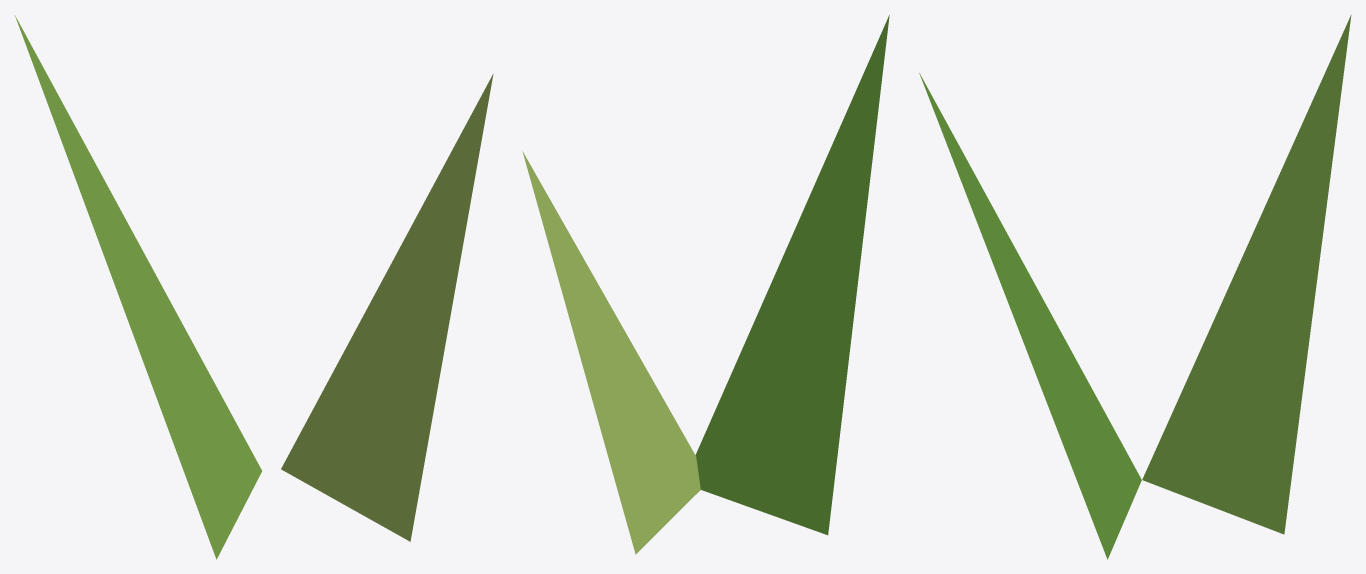
The model's file is cover-tuftFar.glb.
3 views of the same model, side by side, from view 1: azimuth 30°, elevation 25°; view 2: azimuth 150°, elevation 25°; view 3: azimuth 270°, elevation 25° (orthographic). The views are drawn at different scales.
Parts seen in each view (by area): view 1: cover-tuftFar; view 2: cover-tuftFar; view 3: cover-tuftFar.
Part boxes in pixels (x1,y1,x2,y2): cover-tuftFar: [15, 15, 493, 559]; cover-tuftFar: [522, 15, 889, 554]; cover-tuftFar: [919, 15, 1351, 559].
Size of the model in its own units: 0.3827 by 0.4475 by 0.4055.
